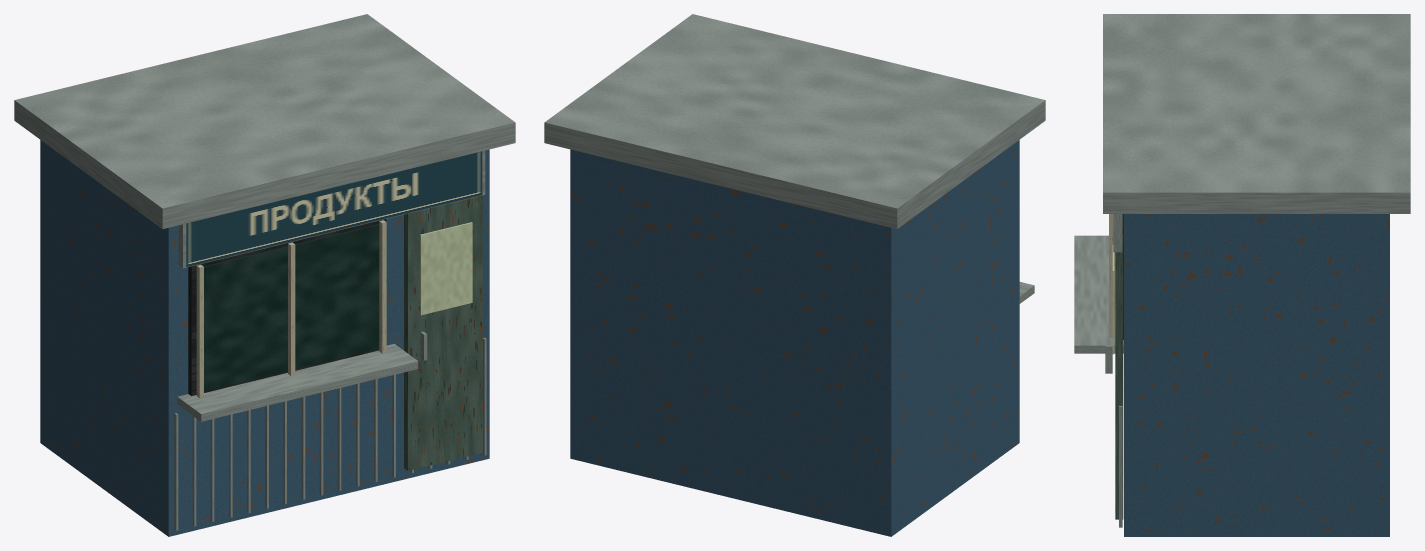
The model's file is CIS_Kiosk.glb.
The picture shows the model from 3 angles, left to right: view 1: azimuth 30°, elevation 25°; view 2: azimuth 150°, elevation 25°; view 3: azimuth 270°, elevation 25°; orthographic projection. The views are drawn at different scales.
Parts seen in each view (by area): view 1: CIS_Kiosk; view 2: CIS_Kiosk; view 3: CIS_Kiosk.
Part boxes in pixels (x1,y1,x2,y2): CIS_Kiosk: (14, 14, 515, 536); CIS_Kiosk: (544, 14, 1045, 536); CIS_Kiosk: (1074, 14, 1410, 536).
Size of the model in its own units: 2.86 by 2.63 by 2.27.
8 materials, 8 textured.
